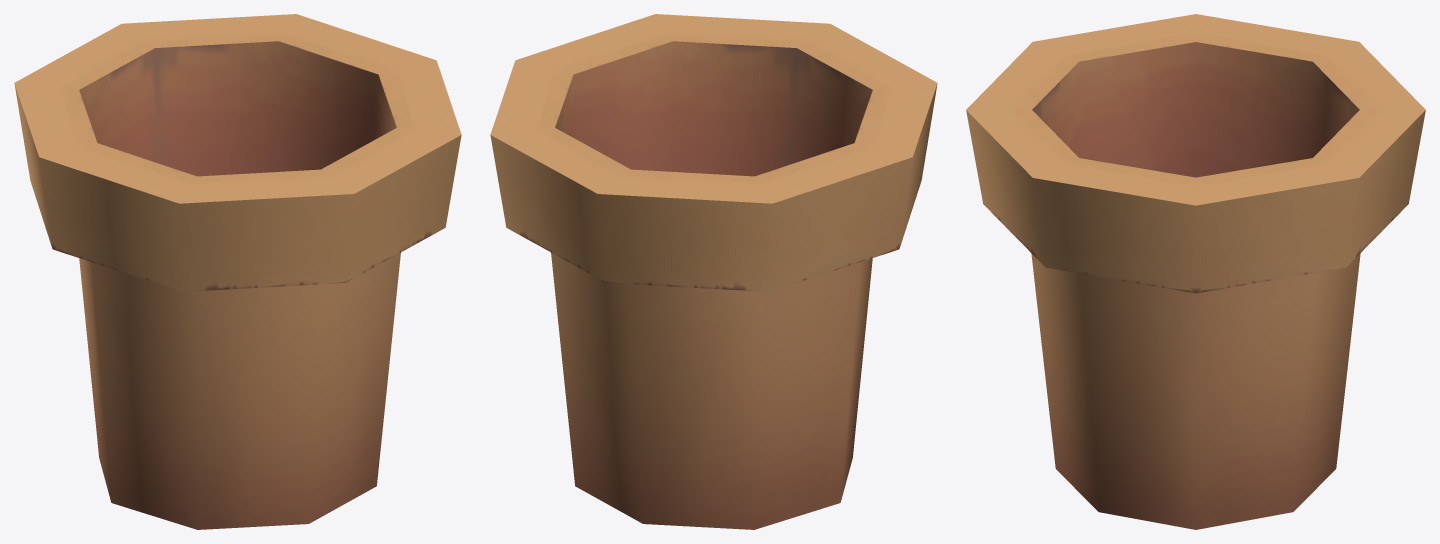
File: pot_001.fbx
The picture shows the model from 3 angles, left to right: view 1: azimuth 30°, elevation 25°; view 2: azimuth 150°, elevation 25°; view 3: azimuth 270°, elevation 25°; orthographic projection.
Visible parts, largest first — view 1: pot.001; view 2: pot.001; view 3: pot.001.
Boxes of the visible parts, bbox=[...] form: pot.001: bbox=[14, 14, 461, 529]; pot.001: bbox=[490, 14, 937, 529]; pot.001: bbox=[966, 14, 1425, 529].
Size of the model in its own units: 28.34 by 24.76 by 28.74.
